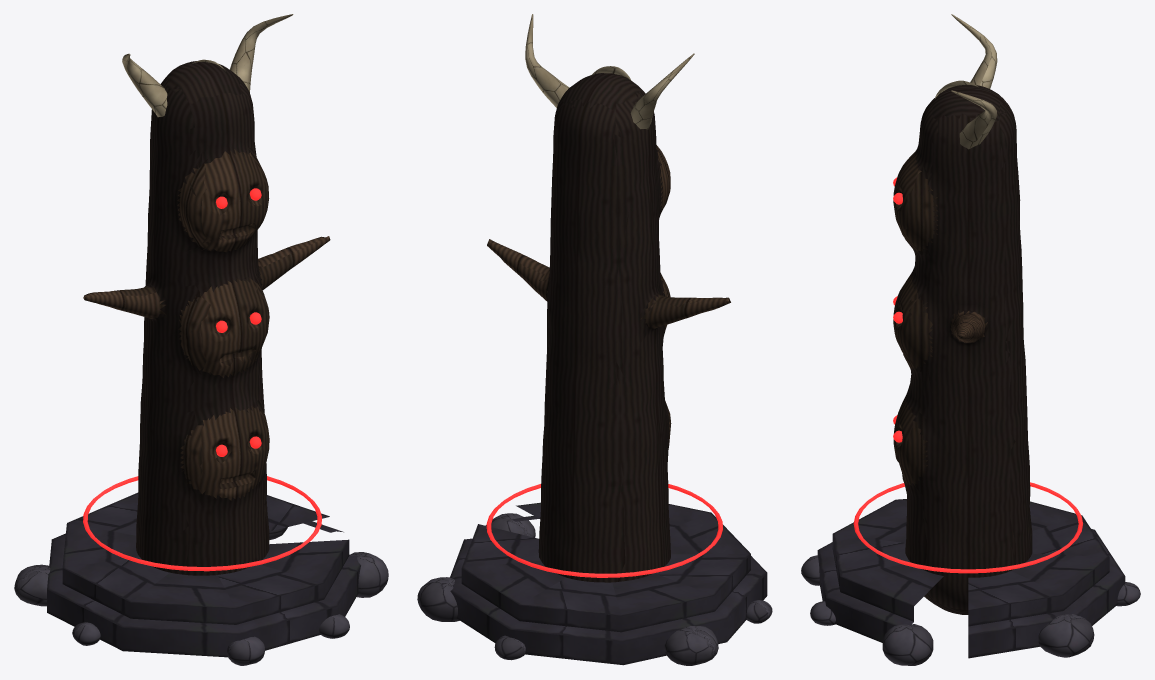
Rendered from totem.glb.
3 renders of one model, left to right at view 1: azimuth 30°, elevation 25°; view 2: azimuth 150°, elevation 25°; view 3: azimuth 270°, elevation 25°, orthographic. The views are drawn at different scales.
Visible parts, largest first — view 1: Base, Turret; view 2: Base, Turret; view 3: Base, Turret.
Boxes of the visible parts, <box> form: Base: <box>14,61,388,665</box>; Turret: <box>122,14,293,117</box>; Base: <box>417,73,772,665</box>; Turret: <box>525,14,694,129</box>; Base: <box>801,85,1140,665</box>; Turret: <box>935,14,997,149</box>.
Size of the model in its own units: 0.8856 by 1.64 by 0.906.
6 materials, 6 textured.
